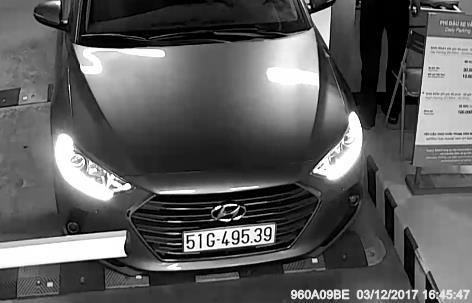License-plate: (179, 225, 285, 252)
